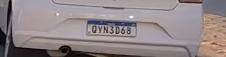Placa_mercosul_carro: (87, 20, 137, 36)
